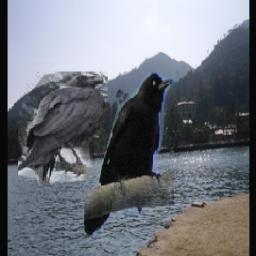Crow: (83, 74, 173, 236), (17, 73, 107, 187)
